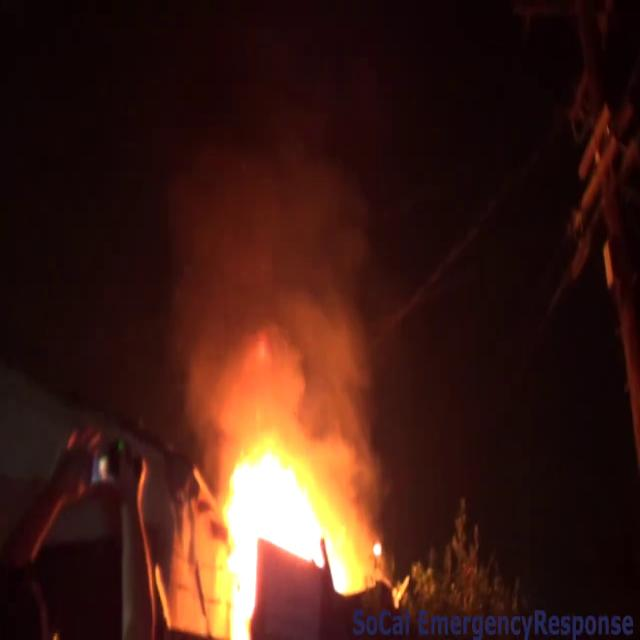Fire: (199, 405, 370, 635)
Smoke: (155, 55, 381, 433)
